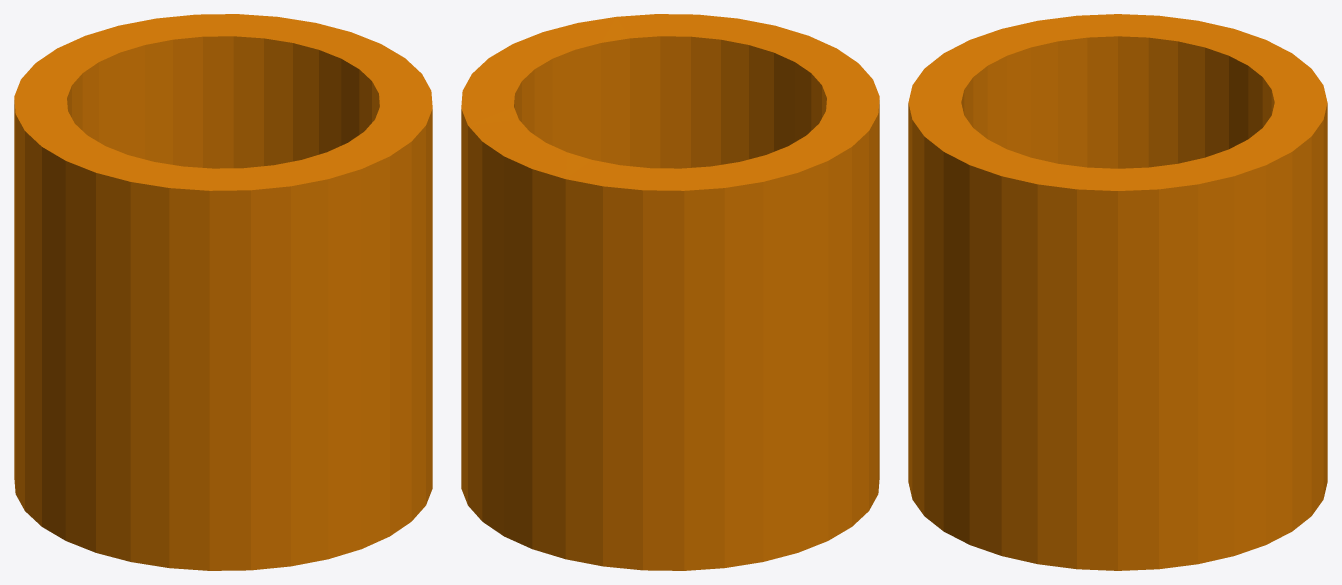
File: cilinder.dae
3 views of the same model, side by side, from view 1: azimuth 30°, elevation 25°; view 2: azimuth 150°, elevation 25°; view 3: azimuth 270°, elevation 25° (orthographic).
Visible parts, largest first — view 1: Cylinder; view 2: Cylinder; view 3: Cylinder.
Part boxes in pixels (x1=…): Cylinder: x1=14, y1=14, x2=432, y2=570; Cylinder: x1=461, y1=14, x2=879, y2=570; Cylinder: x1=908, y1=14, x2=1327, y2=570.
Size of the model in its own units: 0.501 by 0.501 by 0.501.
